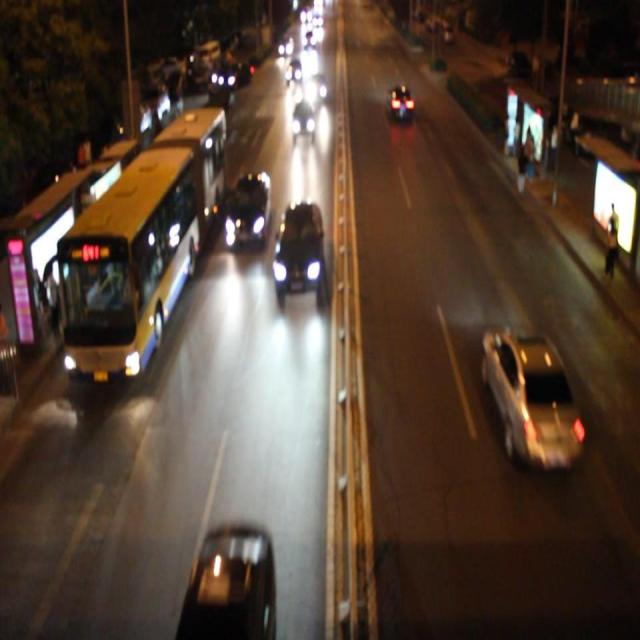car: (482, 325, 580, 469), (177, 516, 275, 640), (272, 197, 324, 291), (227, 170, 269, 248), (387, 82, 415, 121), (291, 99, 314, 138), (306, 73, 326, 104), (285, 56, 302, 83)
van: (54, 102, 219, 376)
